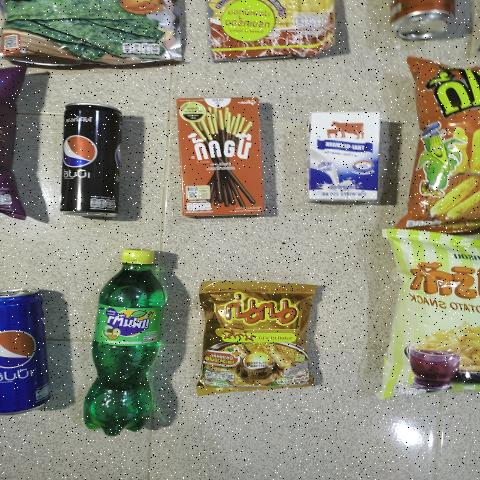fanta_green: (77, 246, 176, 443)
mama: (196, 286, 317, 402)
pepsi_black: (60, 102, 121, 217)
pepsi_blue: (0, 284, 50, 417)
pokki: (182, 98, 262, 216)
thai_denmark: (304, 112, 386, 205)
